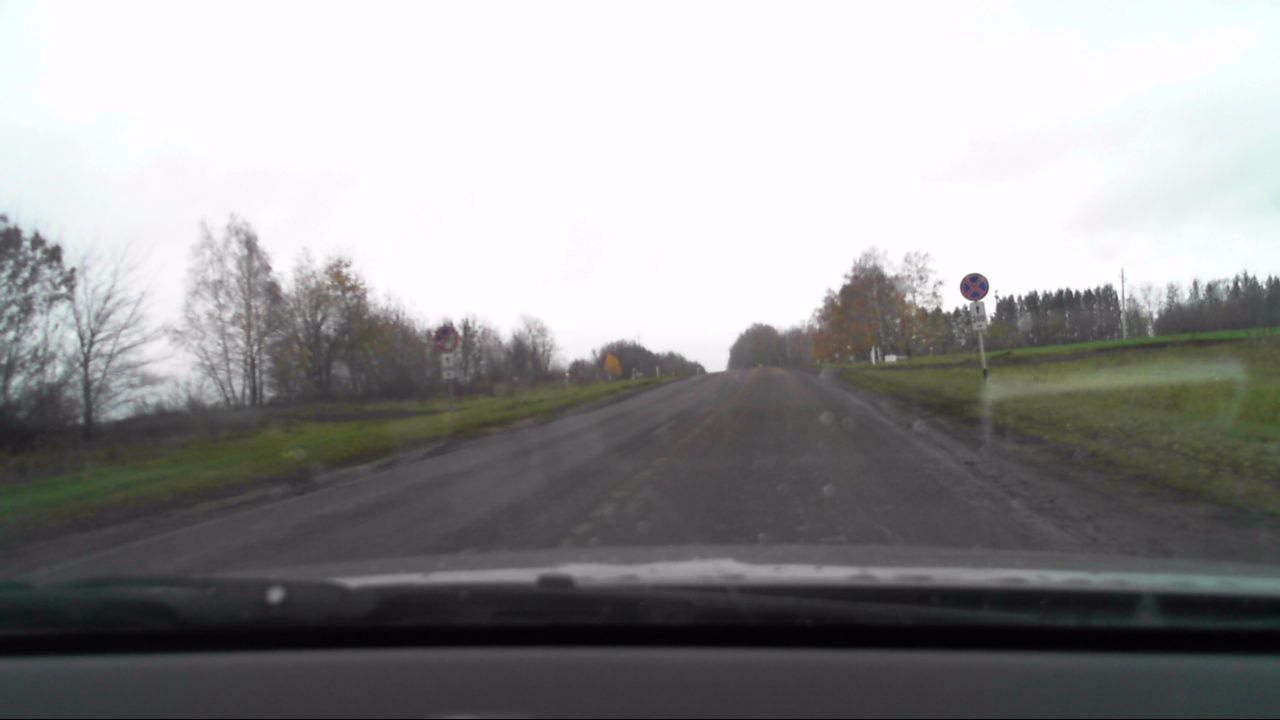No Parking: (433, 323, 459, 351)
